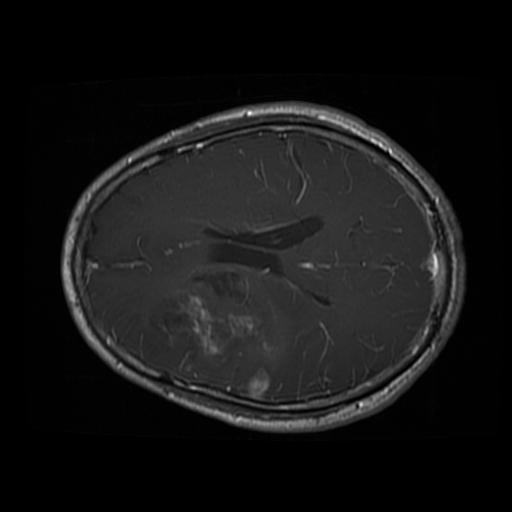glioma: (151, 267, 283, 397)
